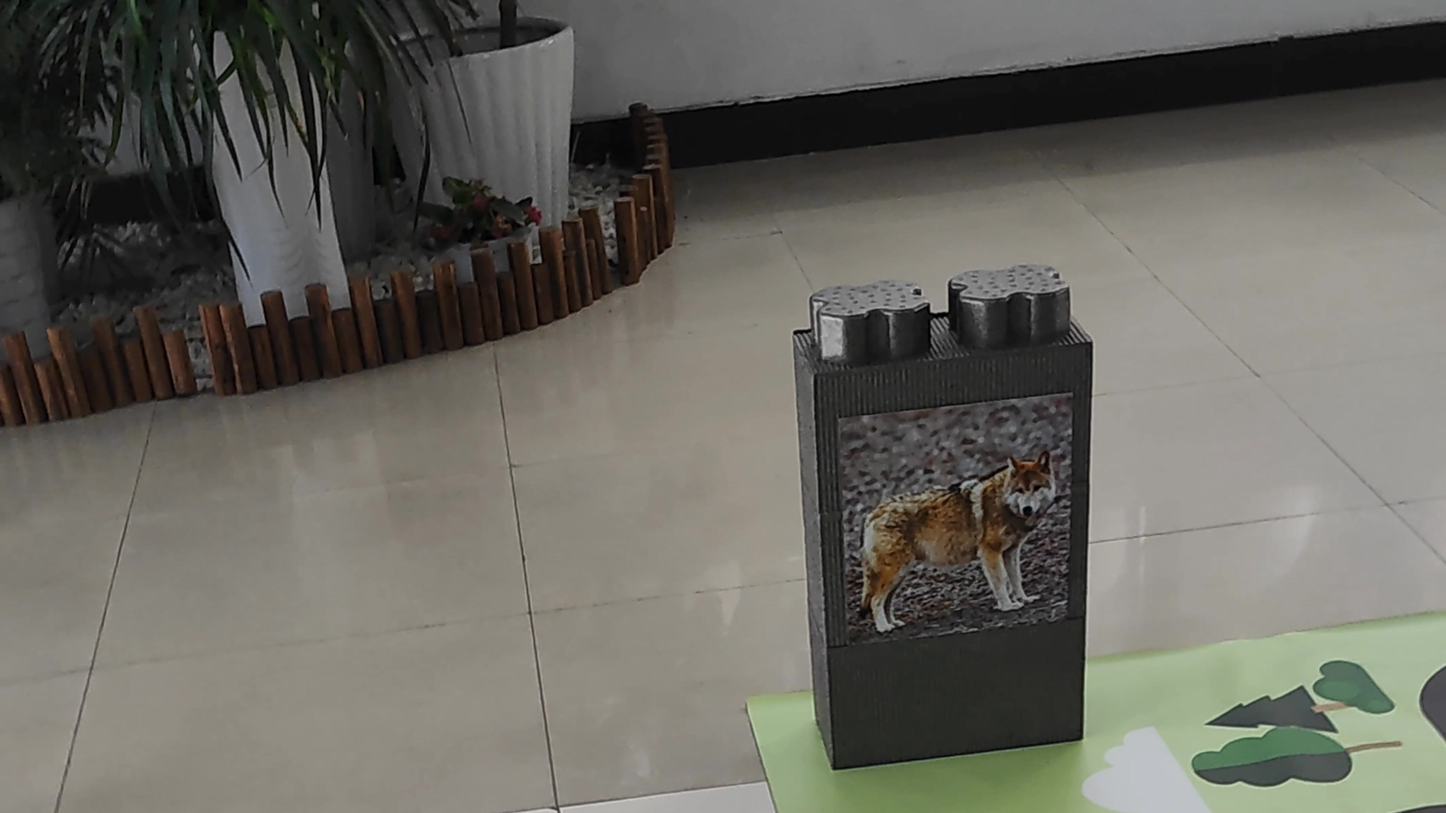wolf: (858, 418, 1051, 635)
